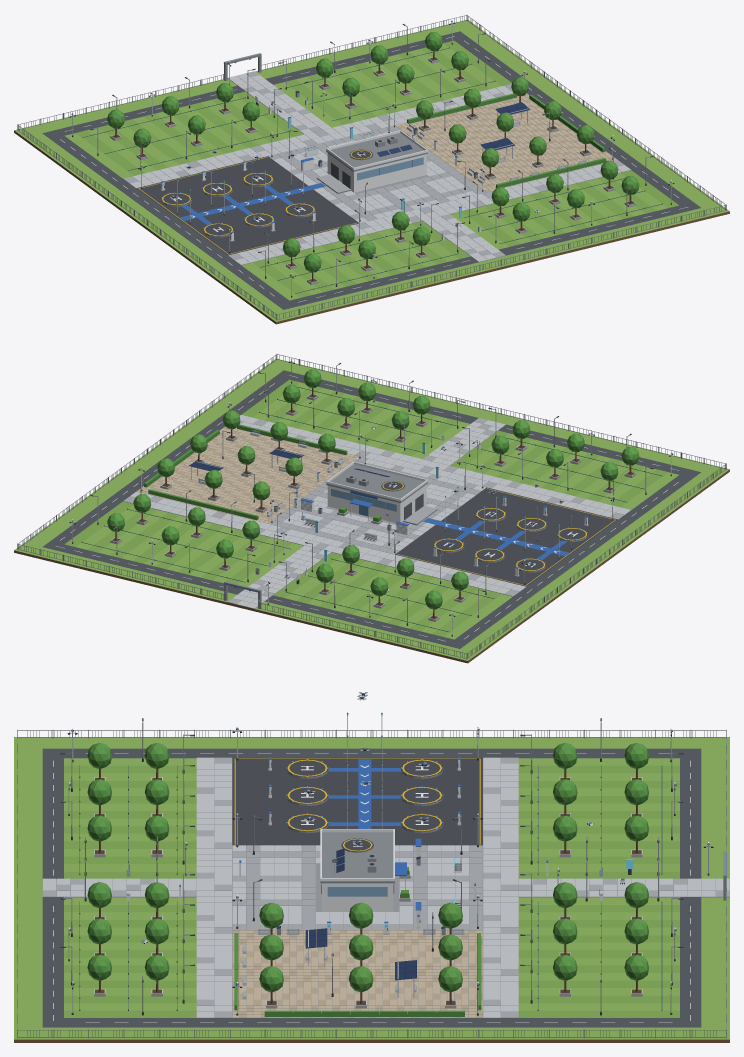
The model's file is Park_B_EfficiencyFirst.fbx.
3 views of the same model, one above another, from view 1: azimuth 30°, elevation 25°; view 2: azimuth 150°, elevation 25°; view 3: azimuth 270°, elevation 25° (orthographic). The views are drawn at different scales.
Visible parts, largest first — view 1: Park_B_Ground_01, Park_B_LawnStripes_01, Park_B_Path_ServiceLoop_01, Park_B_Paving_Service_01, Park_B_Paving_Rest_01, Park_B_Plaza_Hub_01, Park_B_ServiceHub_01, Park_B_Path_TransitEW_South_01, Park_B_Path_TransitEW_North_01, Park_B_Path_TransitNS_01, Park_B_DeliveryLanes_01; view 2: Park_B_Ground_01, Park_B_LawnStripes_01, Park_B_Path_ServiceLoop_01, Park_B_Paving_Service_01, Park_B_Paving_Rest_01, Park_B_Plaza_Hub_01, Park_B_ServiceHub_01, Park_B_Path_TransitEW_North_01, Park_B_Path_TransitEW_South_01, Park_B_Path_TransitNS_01, Park_B_DeliveryLanes_01; view 3: Park_B_Ground_01, Park_B_LawnStripes_01, Park_B_Path_ServiceLoop_01, Park_B_Paving_Rest_01, Park_B_Paving_Service_01, Park_B_Plaza_Hub_01, Park_B_Path_TransitEW_North_01, Park_B_Path_TransitEW_South_01, Park_B_ServiceHub_01, Park_B_Path_TransitNS_01, Park_B_DeliveryLanes_01, Park_B_DronePad_06 (+5 smaller).
Part boxes in pixels (<box>): Park_B_Ground_01: <box>14,20,729,324</box>; Park_B_LawnStripes_01: <box>76,40,679,297</box>; Park_B_Path_ServiceLoop_01: <box>42,31,700,309</box>; Park_B_Paving_Service_01: <box>136,156,358,255</box>; Park_B_Paving_Rest_01: <box>395,93,617,192</box>; Park_B_Plaza_Hub_01: <box>268,125,485,222</box>; Park_B_ServiceHub_01: <box>316,130,427,193</box>; Park_B_Path_TransitEW_South_01: <box>123,84,512,188</box>; Park_B_Path_TransitEW_North_01: <box>228,160,630,265</box>; Park_B_Path_TransitNS_01: <box>227,71,505,262</box>; Park_B_DeliveryLanes_01: <box>180,183,325,224</box>; Park_B_Ground_01: <box>14,359,729,663</box>; Park_B_LawnStripes_01: <box>64,379,667,636</box>; Park_B_Path_ServiceLoop_01: <box>43,370,701,648</box>; Park_B_Paving_Service_01: <box>395,487,617,586</box>; Park_B_Paving_Rest_01: <box>136,426,359,523</box>; Park_B_Plaza_Hub_01: <box>268,457,486,554</box>; Park_B_ServiceHub_01: <box>326,453,437,525</box>; Park_B_Path_TransitEW_North_01: <box>239,415,630,519</box>; Park_B_Path_TransitEW_South_01: <box>123,491,525,596</box>; Park_B_Path_TransitNS_01: <box>227,418,505,608</box>; Park_B_DeliveryLanes_01: <box>423,518,568,560</box>; Park_B_Ground_01: <box>14,737,729,1042</box>; Park_B_LawnStripes_01: <box>64,765,679,1017</box>; Park_B_Path_ServiceLoop_01: <box>42,748,701,1027</box>; Park_B_Paving_Rest_01: <box>232,930,482,1017</box>; Park_B_Paving_Service_01: <box>232,757,482,845</box>; Park_B_Plaza_Hub_01: <box>232,845,482,930</box>; Park_B_Path_TransitEW_North_01: <box>196,757,232,1017</box>; Park_B_Path_TransitEW_South_01: <box>483,757,518,1017</box>; Park_B_ServiceHub_01: <box>320,829,406,911</box>; Park_B_Path_TransitNS_01: <box>42,878,729,897</box>; Park_B_DeliveryLanes_01: <box>328,759,400,828</box>; Park_B_DronePad_06: <box>286,758,328,778</box>.
Size of the model in its own units: 100 by 13.4 by 100.
